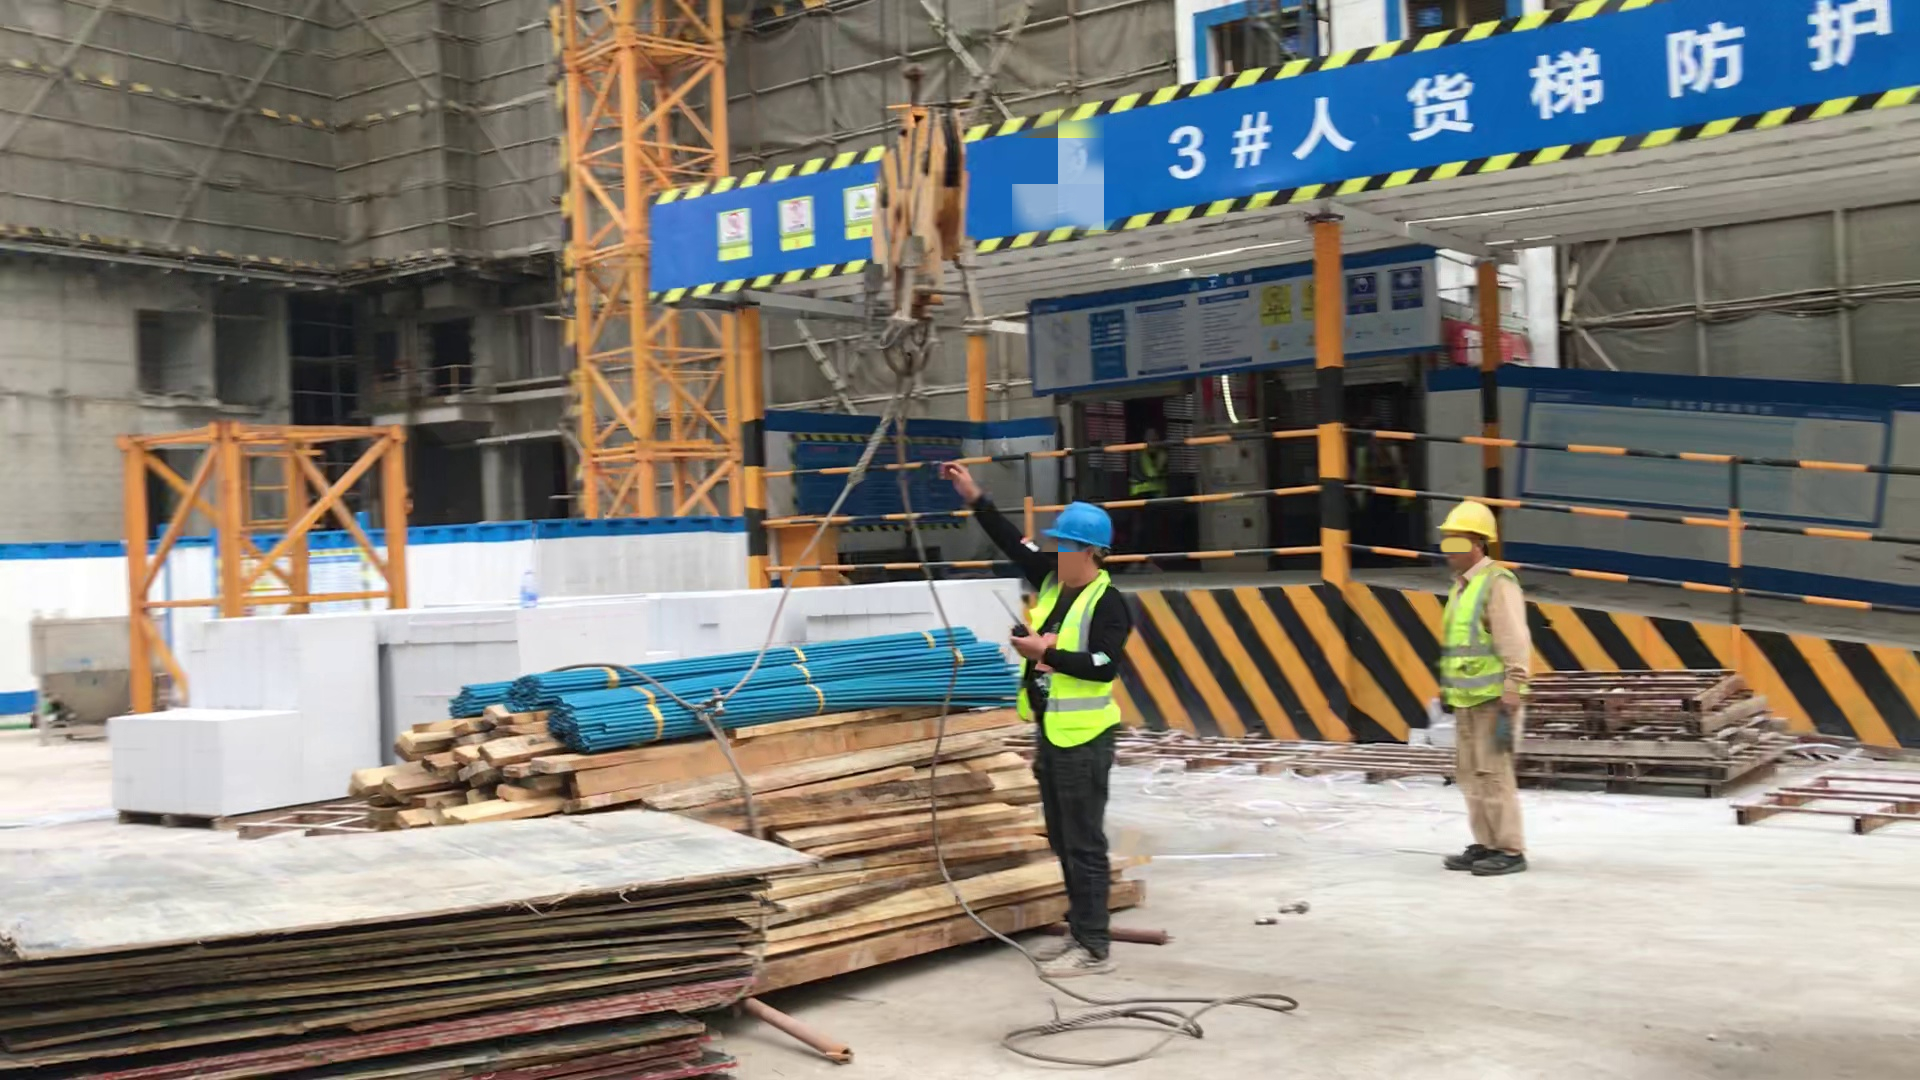board: (6, 786, 764, 1080)
brick: (112, 610, 516, 817)
helmet: (1038, 491, 1119, 559), (1440, 496, 1507, 545)
hook: (842, 69, 1008, 278)
person: (1015, 448, 1126, 979), (1436, 496, 1526, 880)
vest: (1015, 573, 1118, 719), (1438, 570, 1526, 701)
wood: (383, 732, 1098, 961)
